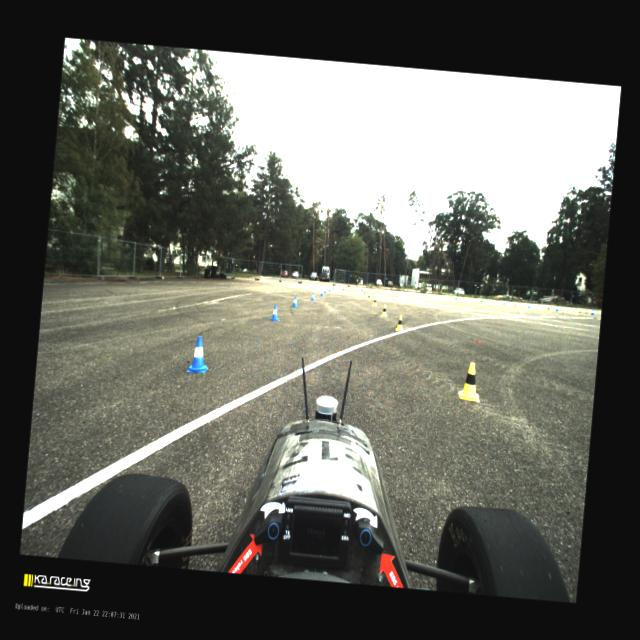blue_cone: (186, 334, 211, 374), (270, 304, 280, 322), (292, 296, 298, 306), (310, 292, 315, 300), (320, 289, 324, 296), (591, 308, 595, 314), (328, 286, 331, 292), (502, 300, 506, 304), (527, 302, 530, 307), (342, 285, 345, 290), (324, 287, 326, 293), (556, 305, 558, 311), (479, 298, 482, 302), (332, 285, 334, 290), (361, 286, 363, 291), (425, 291, 427, 296), (400, 290, 402, 294), (382, 288, 384, 292), (454, 294, 456, 298)
yellow_cone: (457, 361, 482, 402), (395, 314, 404, 331), (380, 304, 388, 316), (372, 298, 377, 306), (546, 305, 551, 312), (366, 294, 371, 300), (481, 298, 484, 304), (513, 302, 516, 308), (423, 292, 426, 297), (363, 291, 366, 296), (376, 288, 378, 293), (456, 296, 458, 301), (364, 290, 366, 294), (396, 290, 398, 294)
